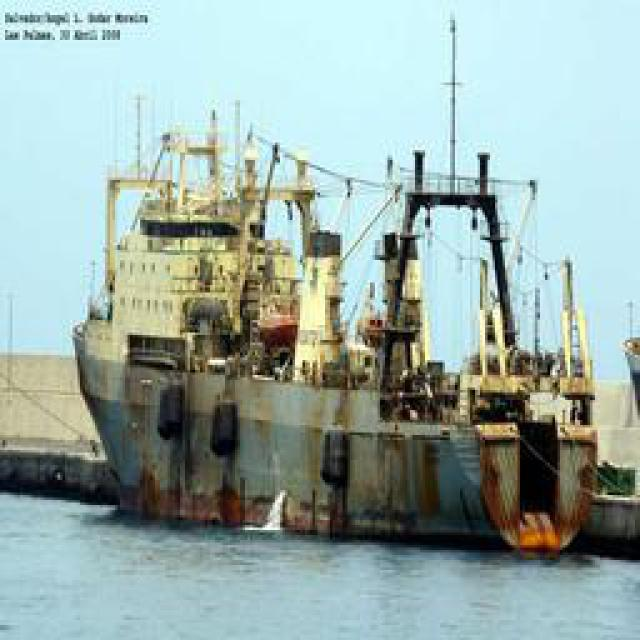Ship: (69, 70, 592, 545)
